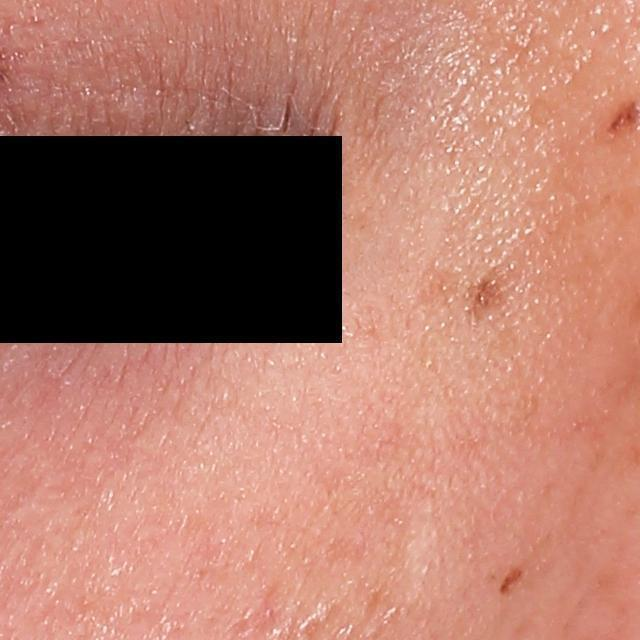nevus: (469, 275, 501, 315), (600, 108, 640, 140)
